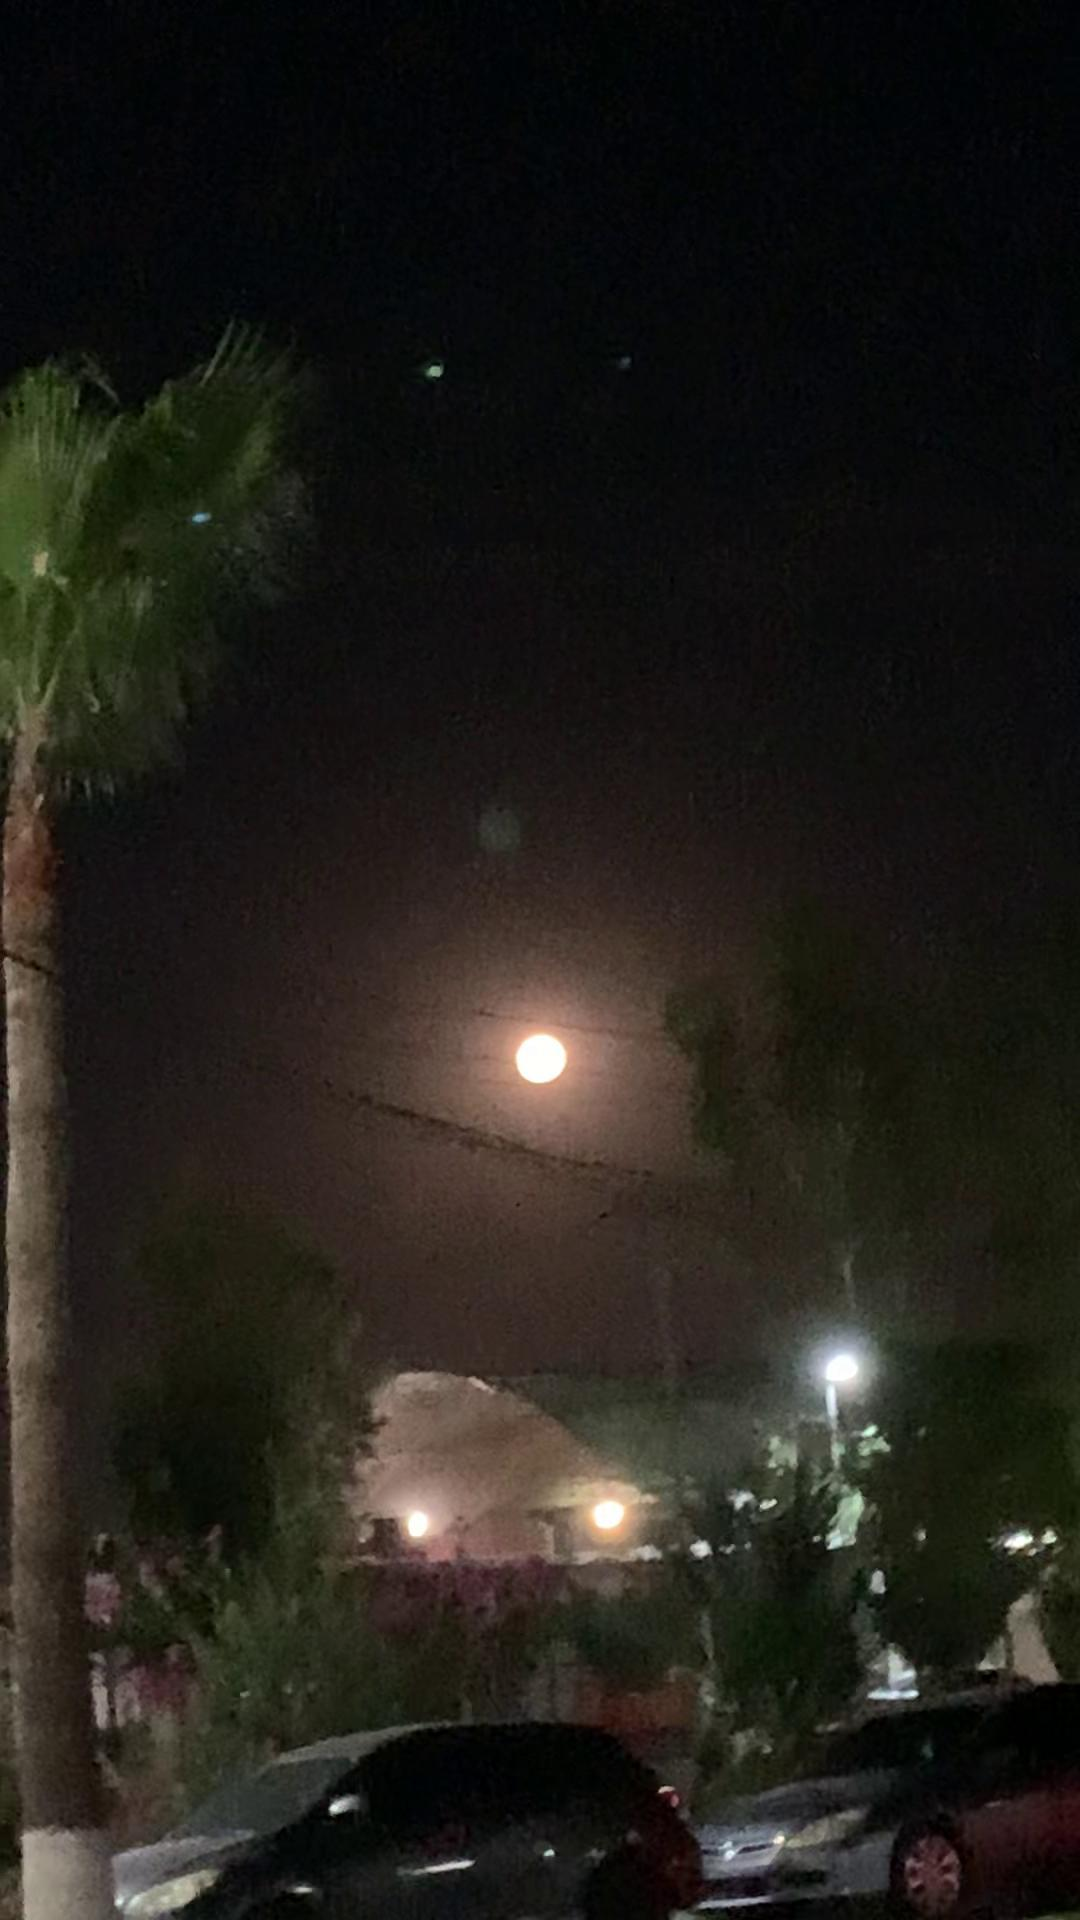moon: (489, 1023, 581, 1095)
